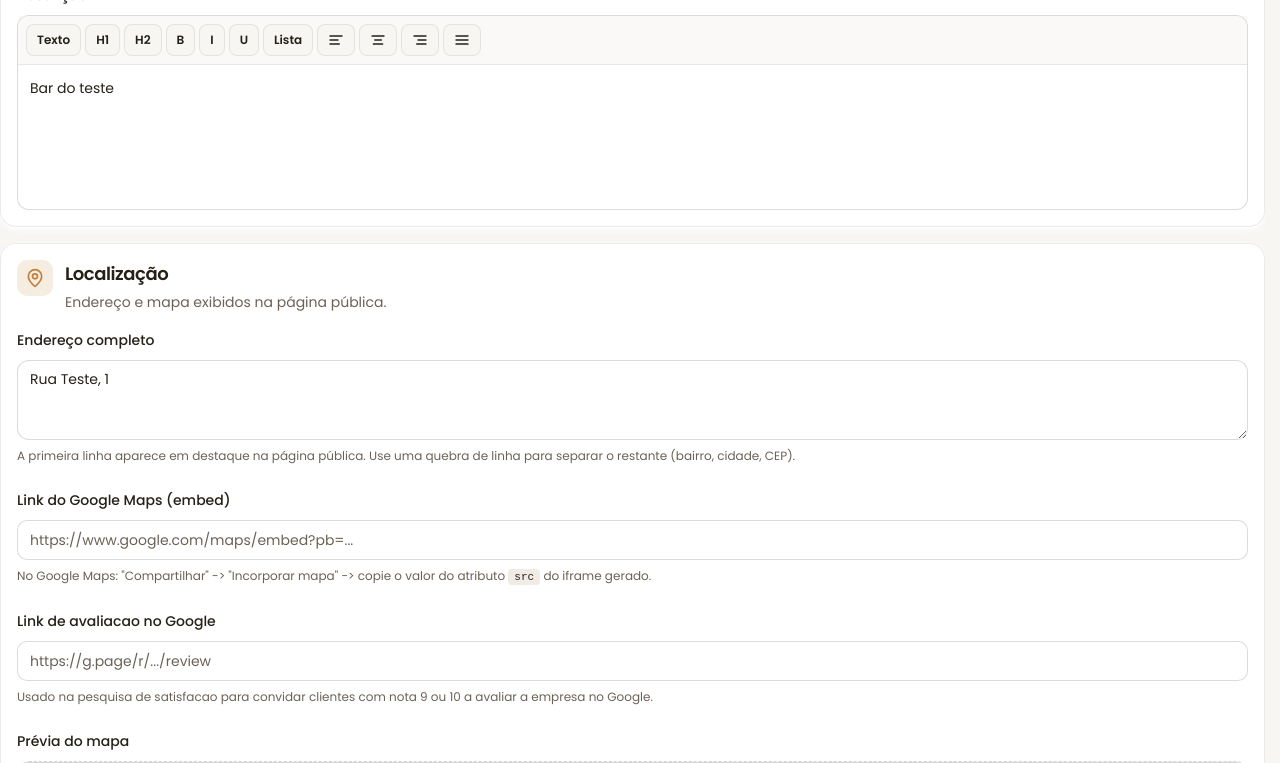
Test: CompanySettings — salvamento por página › descarta alterações não salvas depois que o usuário confirma a saída
This screenshot has width=1280, height=763.
(page scrolled)
Replace the text in the text box labelled "Endereço completo" with "Rua Nova, 99" at (632, 400), box [17, 360, 1248, 440]
(page scrolled)
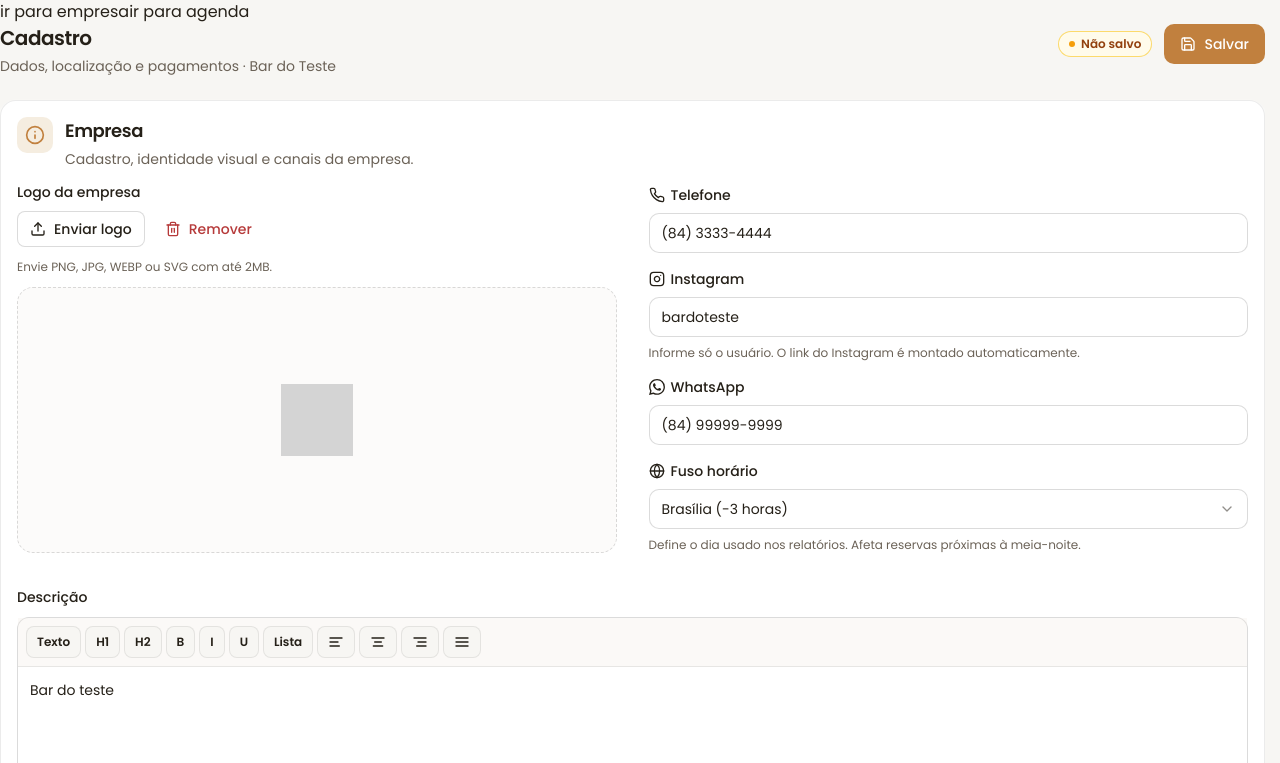
Click the link "ir para agenda" at (189, 12), box [129, 0, 249, 23]
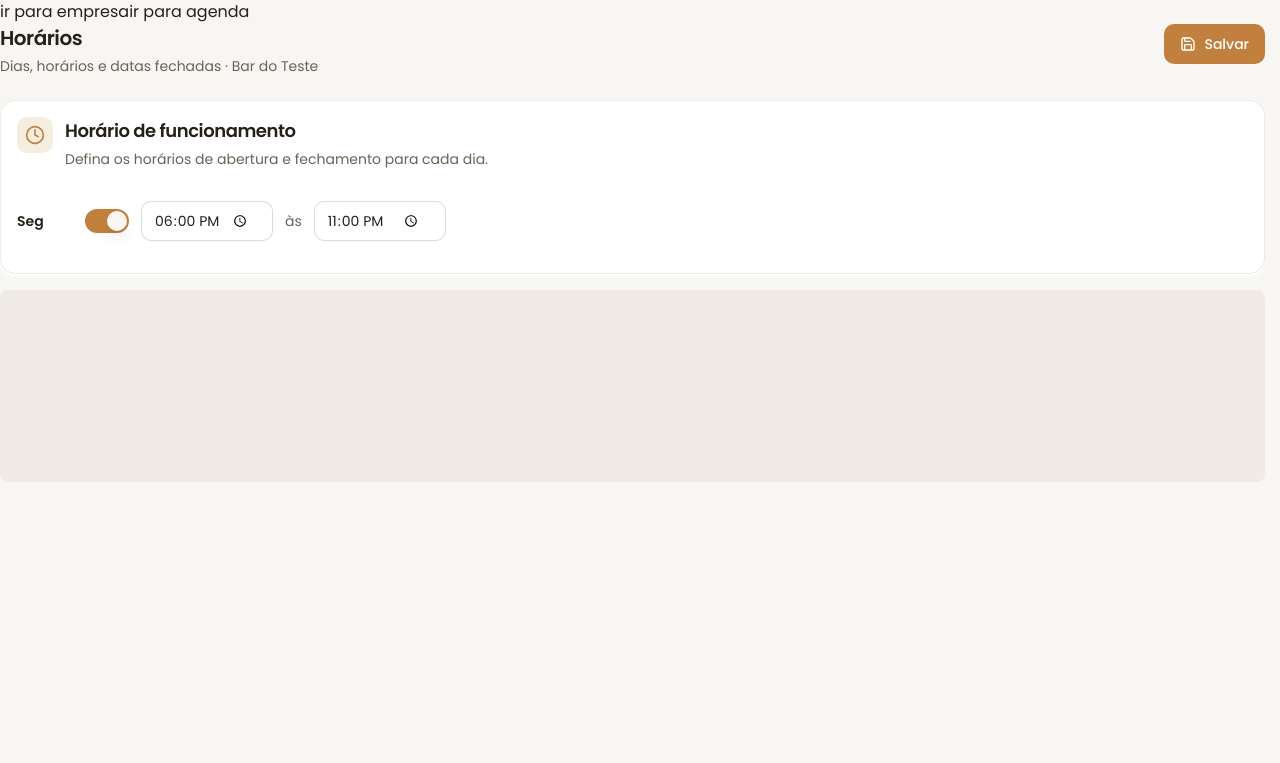
Expected: the heading "Horários" is shown, [0, 24, 82, 52]
Click the link "ir para empresa" at (65, 12), box [0, 0, 129, 23]
(page scrolled)
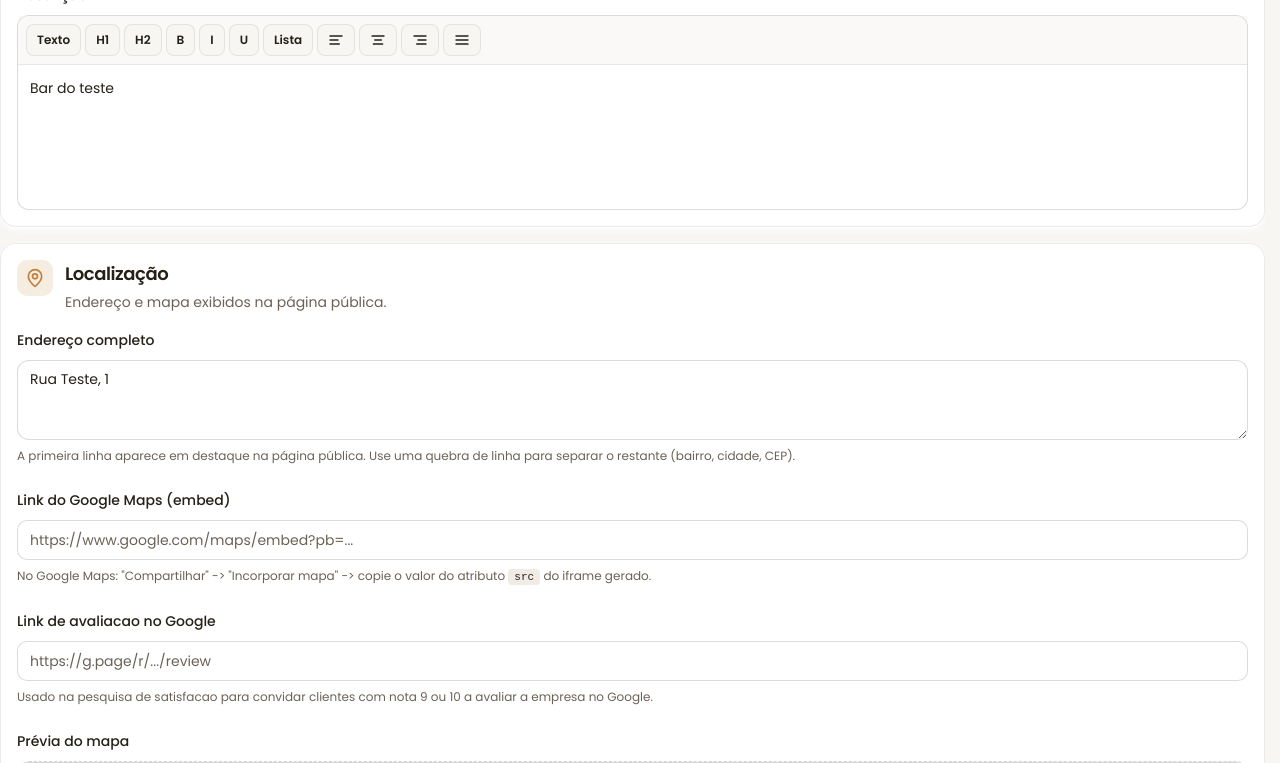
Expected: the text box labelled "Endereço completo" holds "Rua Teste, 1", [17, 360, 1248, 440]
